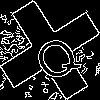Q: (25, 25, 84, 87)
